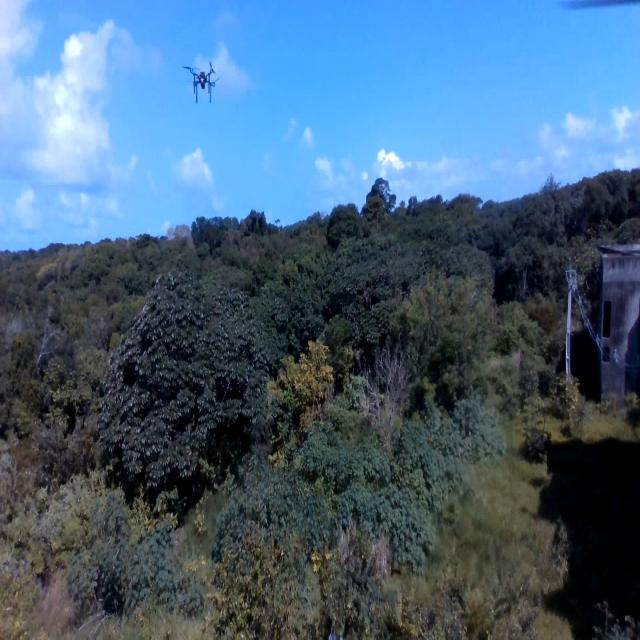-uav-: (181, 50, 223, 107)
